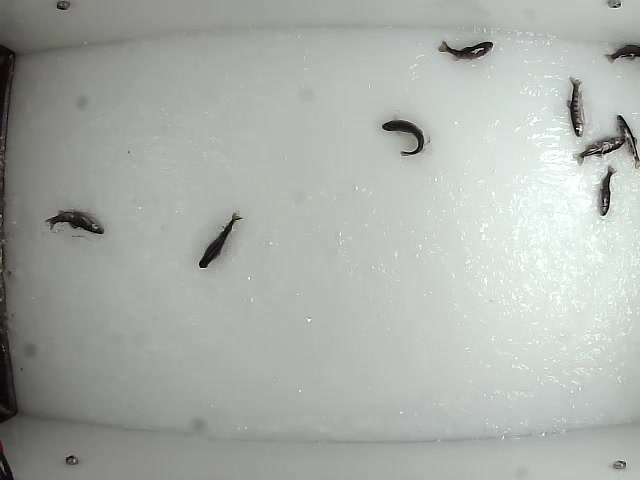fish: (197, 209, 244, 269), (569, 132, 628, 168), (43, 205, 109, 236), (380, 117, 425, 156), (436, 38, 497, 64), (564, 74, 588, 139), (614, 113, 640, 171), (597, 164, 618, 219)
